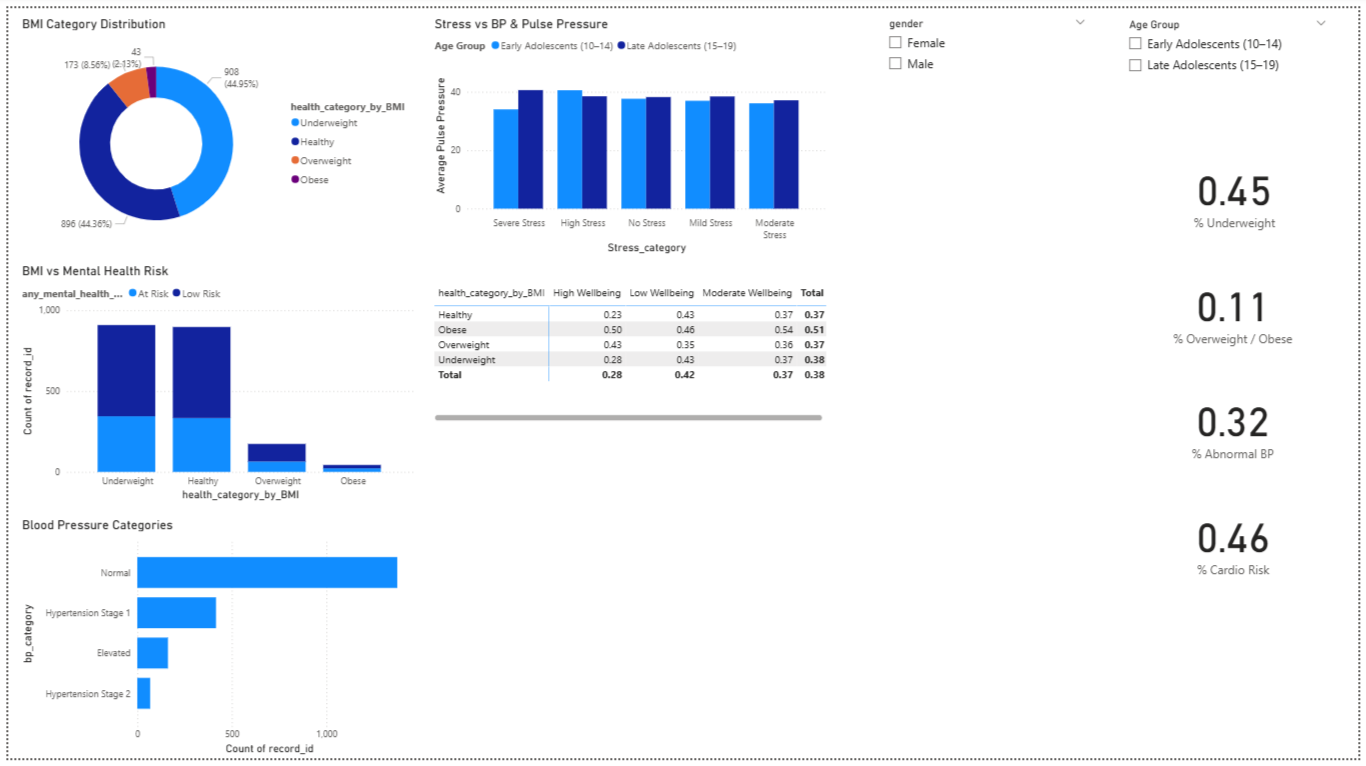

The dashboard page shown, as its layout file describes it:
{"tool":"powerbi","page":{"name":"Dashboard 6 — Physical Health & Psychosomatic Risk","canvas":[1800,1000],"ordinal":5},"visuals":[{"type":"slicer","fields":{"Values":["FINAL_Clean_Dataset.Age Group"]},"box":[1481.2,7.5,287.5,117.5],"z":0},{"type":"slicer","fields":{"Values":["FINAL_Clean_Dataset.gender"]},"box":[1161.7,6.7,286.7,118.3],"z":1000},{"type":"card","fields":{"Values":["FINAL_Clean_Dataset.% Overweight / Obese"]},"box":[1548.4,324.8,169,154],"z":2000},{"type":"card","fields":{"Values":["FINAL_Clean_Dataset.% Abnormal BP"]},"box":[1548.4,478.8,169,154],"z":3000},{"type":"card","fields":{"Values":["FINAL_Clean_Dataset.% Cardio Risk"]},"box":[1549.4,633.5,166.7,153.3],"z":4000},{"type":"card","fields":{"Values":["FINAL_Clean_Dataset.% Underweight"]},"box":[1550,170,170,155],"z":6000},{"type":"donutChart","title":"BMI Category Distribution","fields":{"Y":["CountNonNull(FINAL_Clean_Dataset.record_id)"],"Category":["FINAL_Clean_Dataset.health_category_by_BMI"]},"box":[14,10,532,322],"z":7000},{"type":"columnChart","title":"BMI vs Mental Health Risk","fields":{"Y":["CountNonNull(FINAL_Clean_Dataset.record_id)"],"Category":["FINAL_Clean_Dataset.health_category_by_BMI"],"Series":["FINAL_Clean_Dataset.any_mental_health_risk"]},"box":[14,340,532,322],"z":8000},{"type":"clusteredBarChart","title":"Blood Pressure Categories","fields":{"Y":["CountNonNull(FINAL_Clean_Dataset.record_id)"],"Category":["FINAL_Clean_Dataset.bp_category"]},"box":[14,678,532,322],"z":9000},{"type":"clusteredColumnChart","title":"Stress vs BP & Pulse Pressure","fields":{"Y":["FINAL_Clean_Dataset.Average Pulse Pressure"],"Category":["FINAL_Clean_Dataset.Stress_category"],"Series":["FINAL_Clean_Dataset.Age Group"]},"box":[564,10,532,322],"z":10000},{"type":"pivotTable","title":"Cyber Abuse × Mental Health Risk","fields":{"Rows":["FINAL_Clean_Dataset.health_category_by_BMI"],"Values":["FINAL_Clean_Dataset.% High Risk"],"Columns":["FINAL_Clean_Dataset.SWEMWS_category"]},"box":[564,364,532,192],"z":11000}]}

Visuals, with their boxes in screenshot pixels (x1, y1, x2, y2), scaled from the page's 1800x1000 canvas onto the 1366x766 screenshot:
slicer - FINAL_Clean_Dataset.Age Group: pyautogui.locateOnScreen(1124, 6, 1342, 96)
slicer - FINAL_Clean_Dataset.gender: pyautogui.locateOnScreen(882, 5, 1099, 96)
card - FINAL_Clean_Dataset.% Overweight / Obese: pyautogui.locateOnScreen(1175, 249, 1303, 367)
card - FINAL_Clean_Dataset.% Abnormal BP: pyautogui.locateOnScreen(1175, 367, 1303, 485)
card - FINAL_Clean_Dataset.% Cardio Risk: pyautogui.locateOnScreen(1176, 485, 1302, 603)
card - FINAL_Clean_Dataset.% Underweight: pyautogui.locateOnScreen(1176, 130, 1305, 249)
"BMI Category Distribution" donutChart: pyautogui.locateOnScreen(11, 8, 414, 254)
"BMI vs Mental Health Risk" columnChart: pyautogui.locateOnScreen(11, 260, 414, 507)
"Blood Pressure Categories" clusteredBarChart: pyautogui.locateOnScreen(11, 519, 414, 765)
"Stress vs BP & Pulse Pressure" clusteredColumnChart: pyautogui.locateOnScreen(428, 8, 832, 254)
"Cyber Abuse × Mental Health Risk" pivotTable: pyautogui.locateOnScreen(428, 279, 832, 426)
